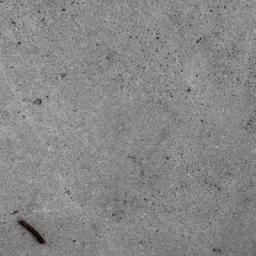FOD: (18, 216, 52, 248)
